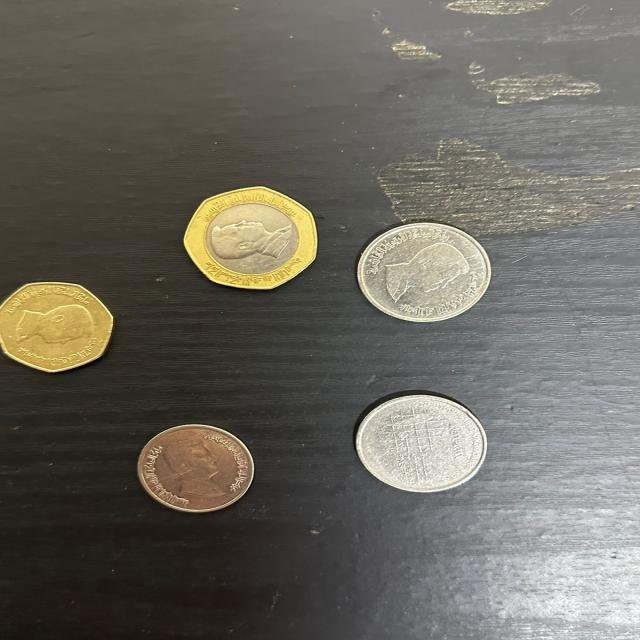10-coins: (354, 220, 494, 324), (354, 392, 492, 496)
25-coins: (0, 281, 119, 375)
5-coins: (132, 419, 260, 514)
50-coins: (178, 188, 322, 291)
